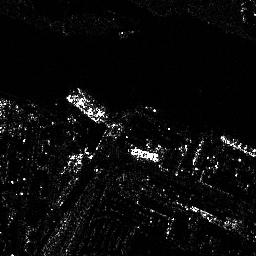ship: (67, 92, 106, 120), (219, 134, 256, 159), (128, 145, 159, 163)
